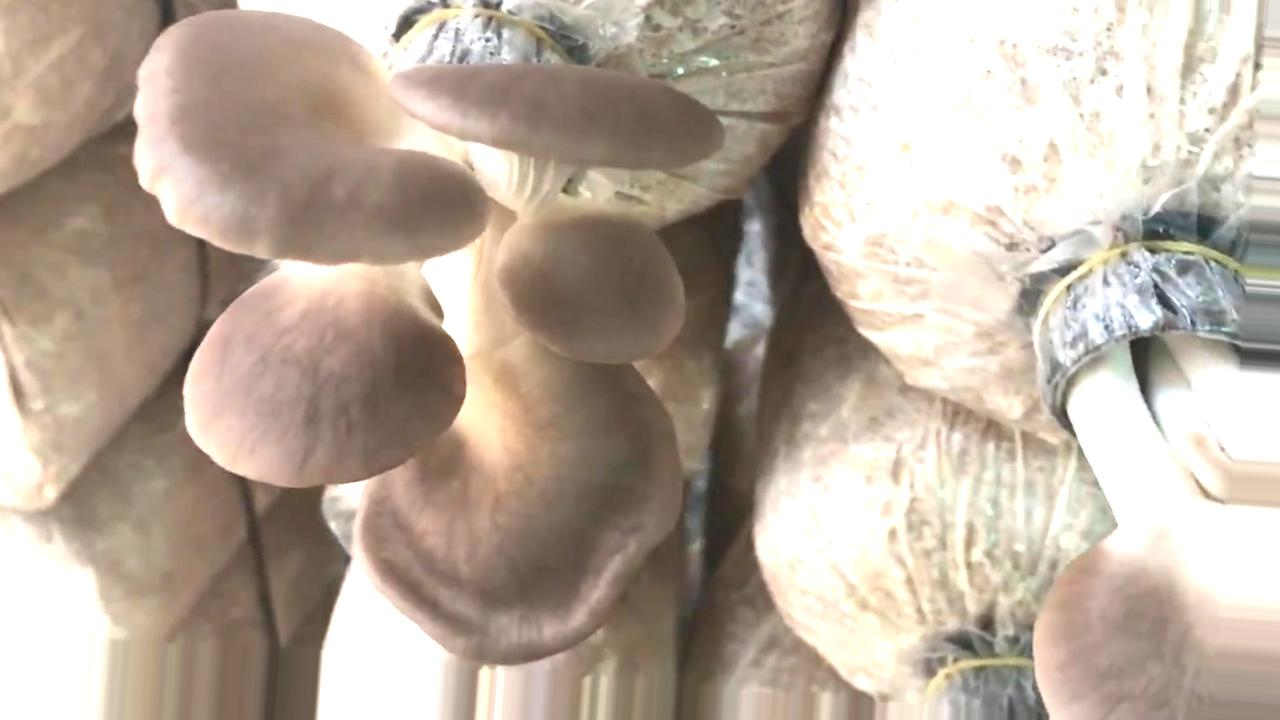nam: (134, 1, 722, 667), (1033, 227, 1280, 719)
